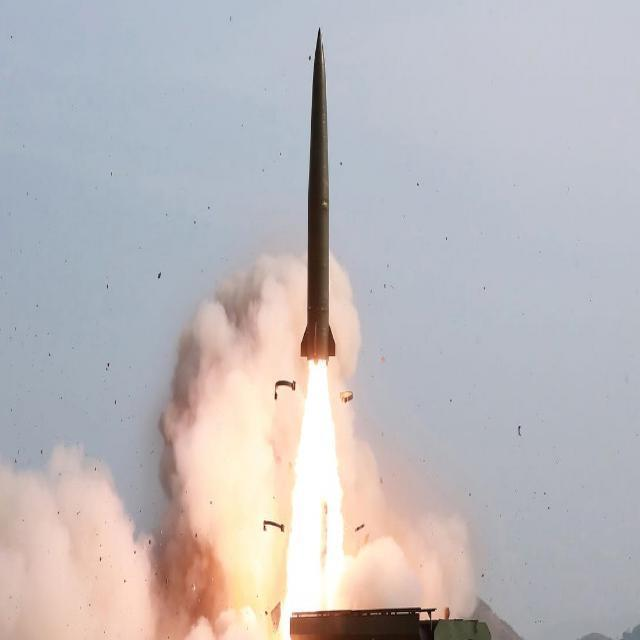missile: (295, 23, 345, 367)
